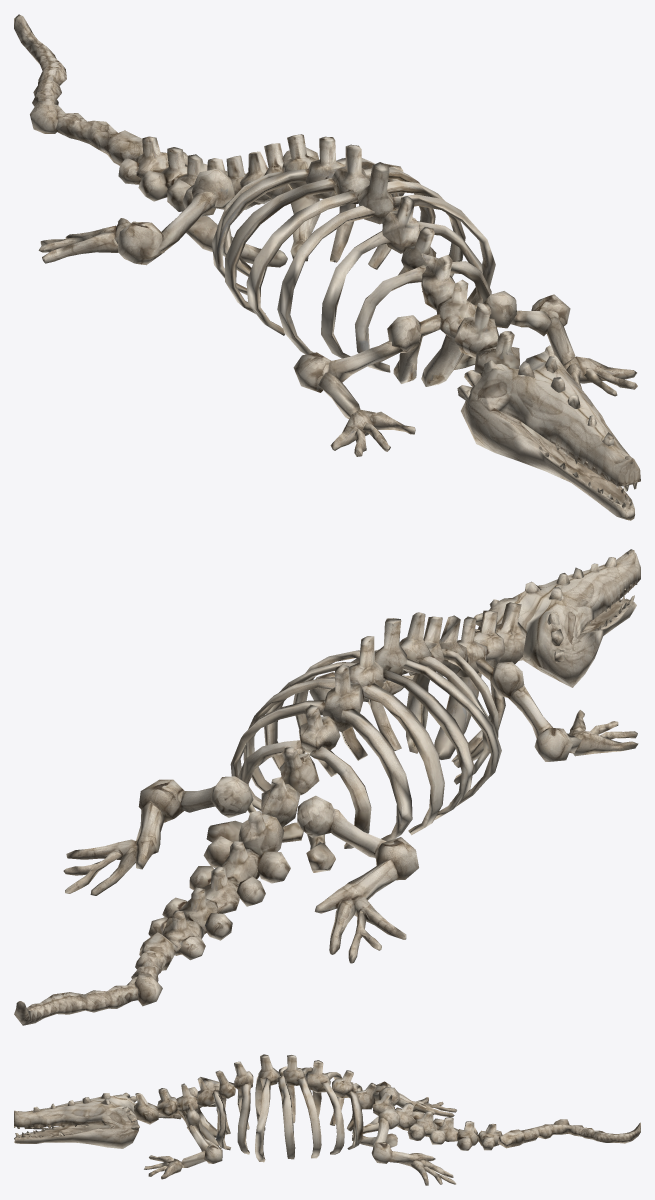
Rendered from dinosaur_texture.fbx.
The picture shows the model from 3 angles, top to bottom: view 1: azimuth 30°, elevation 25°; view 2: azimuth 150°, elevation 25°; view 3: azimuth 270°, elevation 25°; orthographic projection. The views are drawn at different scales.
Parts seen in each view (by area): view 1: Mesh_0; view 2: Mesh_0; view 3: Mesh_0.
Boxes of the visible parts, x1=… form: Mesh_0: x1=14, y1=14, x2=640, y2=520; Mesh_0: x1=14, y1=549, x2=640, y2=1025; Mesh_0: x1=14, y1=1054, x2=640, y2=1185.
Size of the model in its own units: 32.71 by 16.21 by 100.
Materials: 1 (1 with a texture image).
